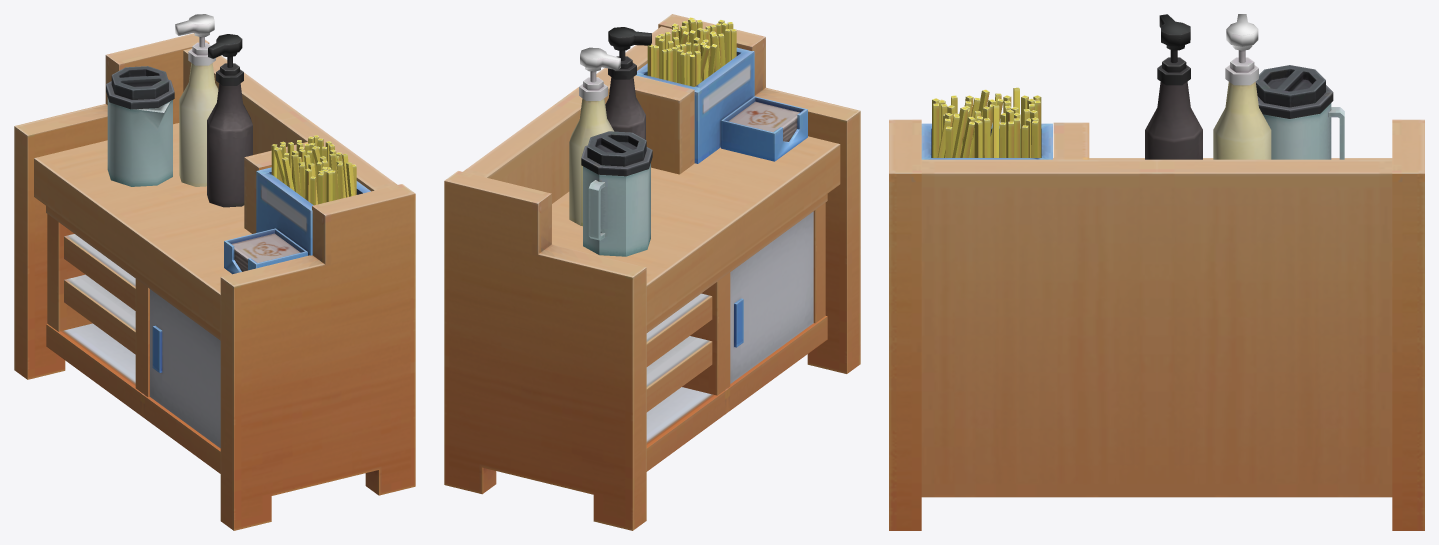
Rendered from my_cafe_01_b_bar_03.glb.
3 renders of one model, left to right at view 1: azimuth 30°, elevation 25°; view 2: azimuth 150°, elevation 25°; view 3: azimuth 270°, elevation 25°, orthographic. The views are drawn at different scales.
Visible parts, largest first — view 1: my_cafe_01_b_bar_03; view 2: my_cafe_01_b_bar_03; view 3: my_cafe_01_b_bar_03.
Part boxes in pixels (bbox=[...]): my_cafe_01_b_bar_03: bbox=[14, 14, 415, 530]; my_cafe_01_b_bar_03: bbox=[444, 14, 860, 530]; my_cafe_01_b_bar_03: bbox=[889, 14, 1424, 530].
Bounding box in the file's own units: 0.00441 × 0.00877 × 0.00924.
Materials: 1 (1 with a texture image).
